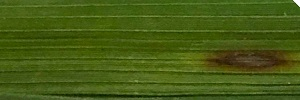RiceBlast: (204, 40, 300, 86)
